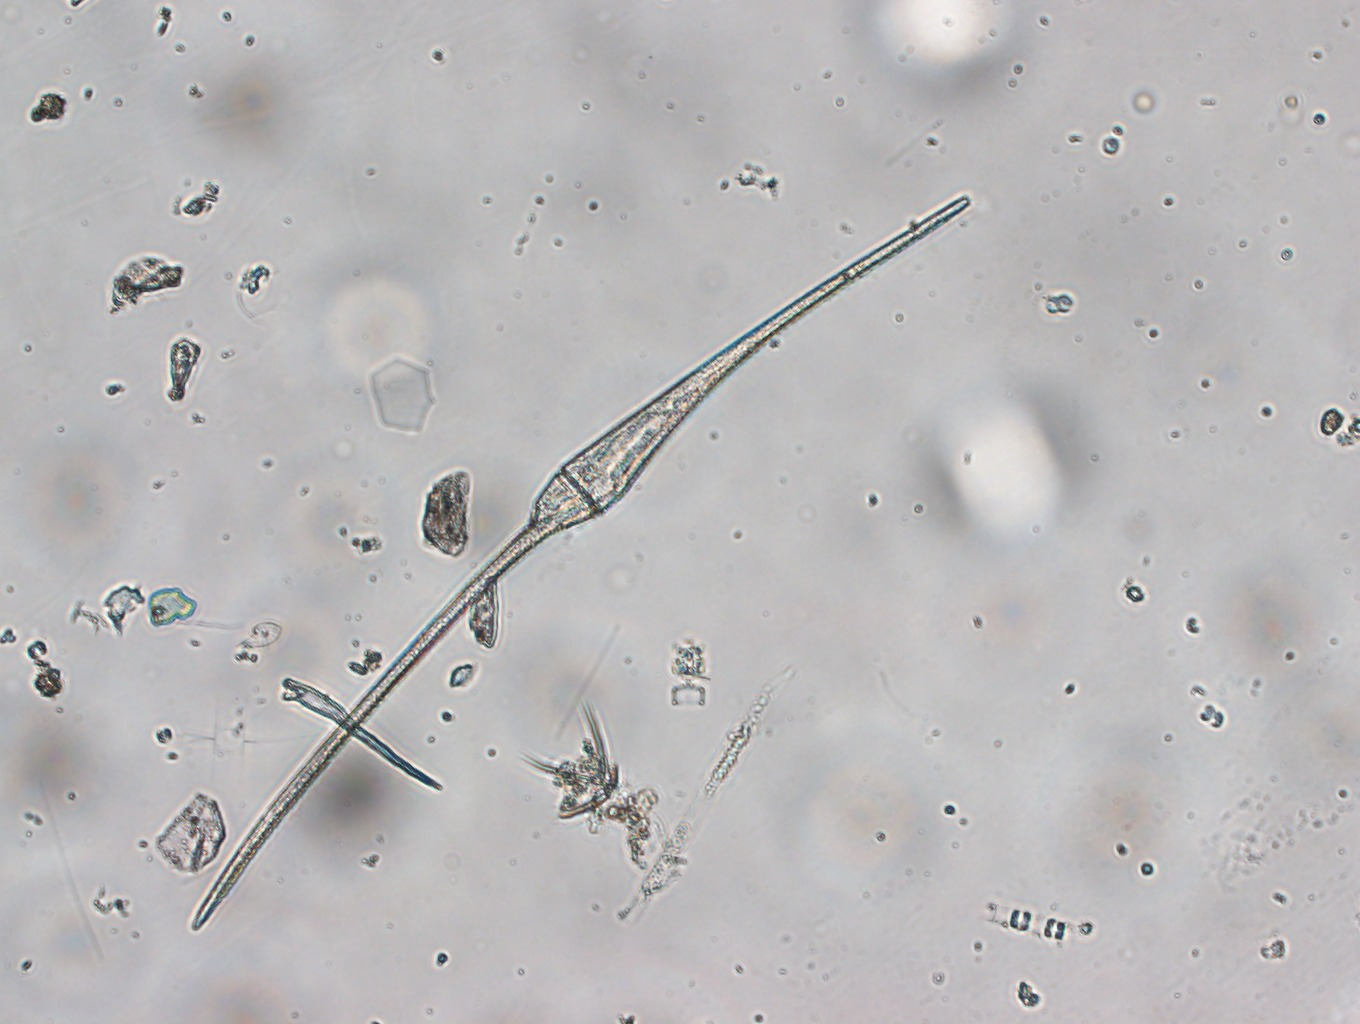ceratium fusus: (190, 182, 989, 931)
